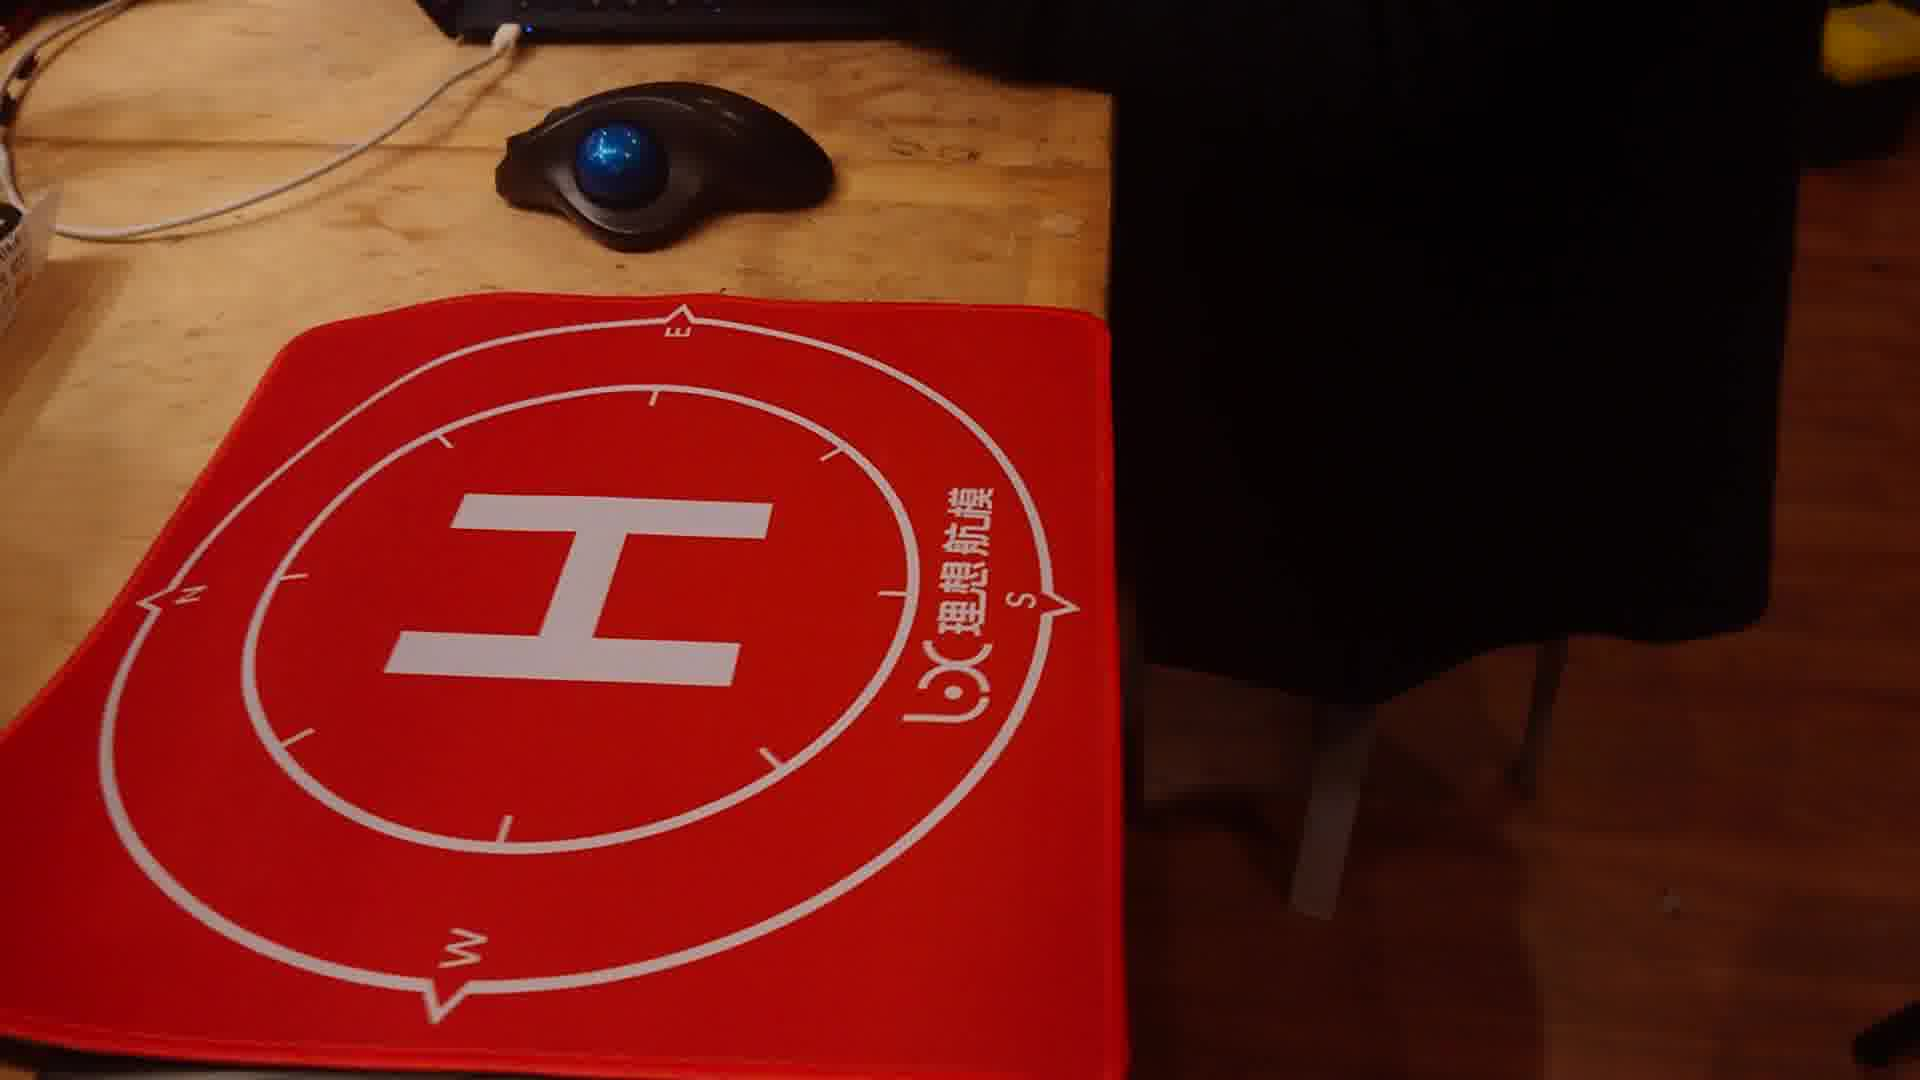H: (380, 491, 778, 687)
